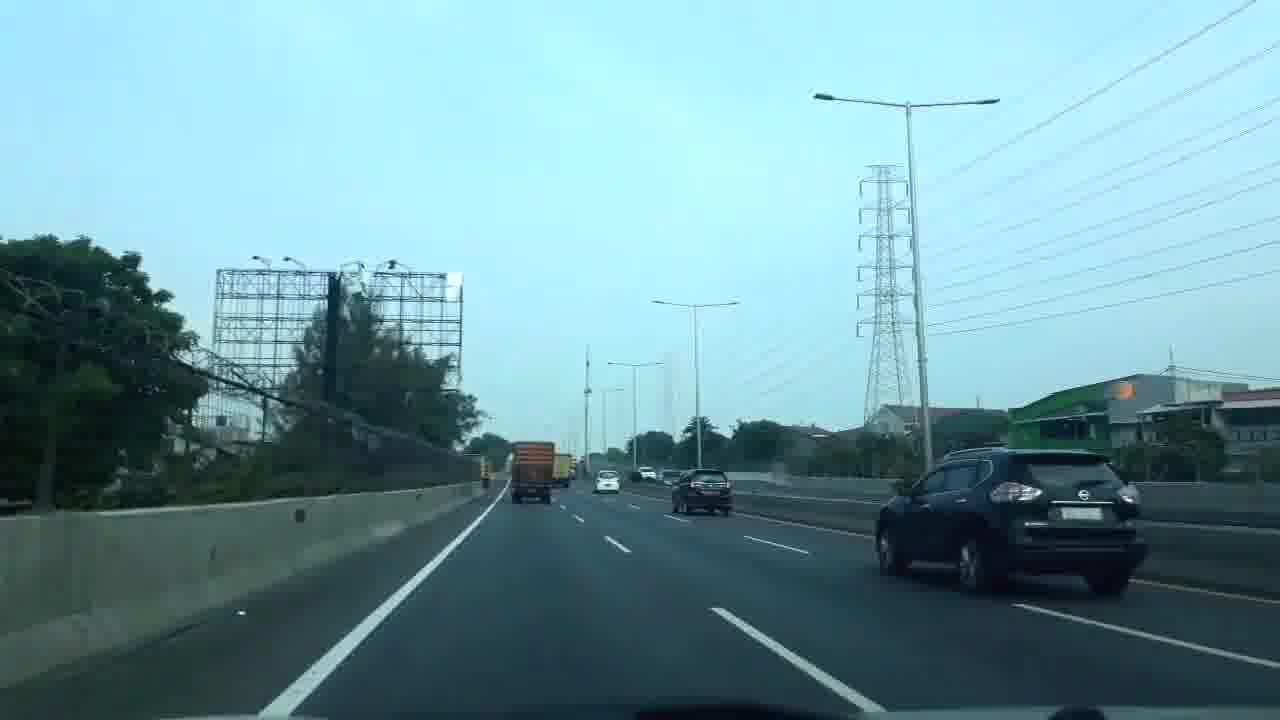plate_positive: (1060, 506, 1104, 521)
